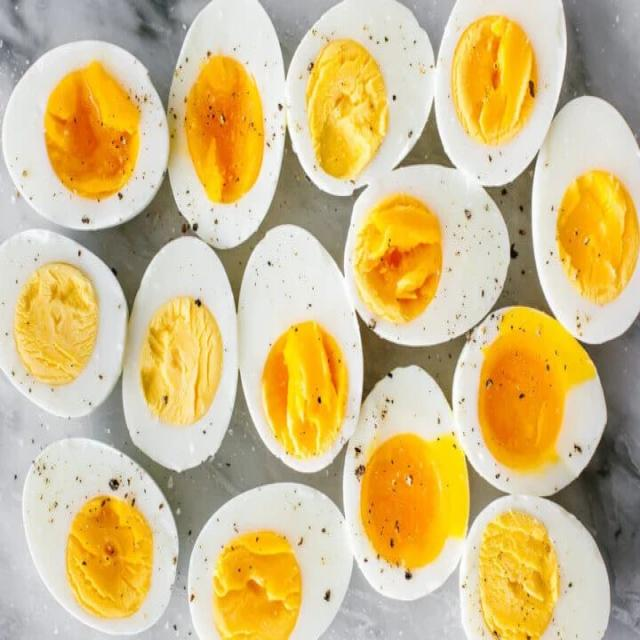eggs: (9, 37, 640, 640)
